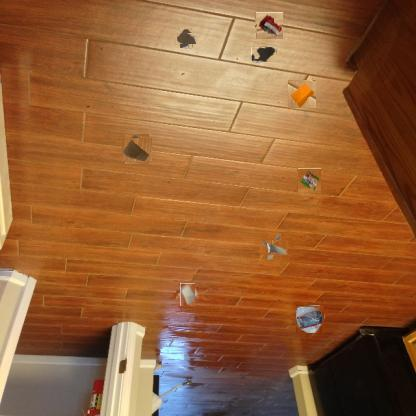dirty: (296, 305, 324, 333), (288, 80, 316, 108), (256, 12, 284, 39), (124, 136, 150, 163), (297, 168, 321, 193), (263, 236, 285, 258), (178, 285, 197, 304)
liquid: (251, 46, 276, 62), (178, 30, 194, 46)
